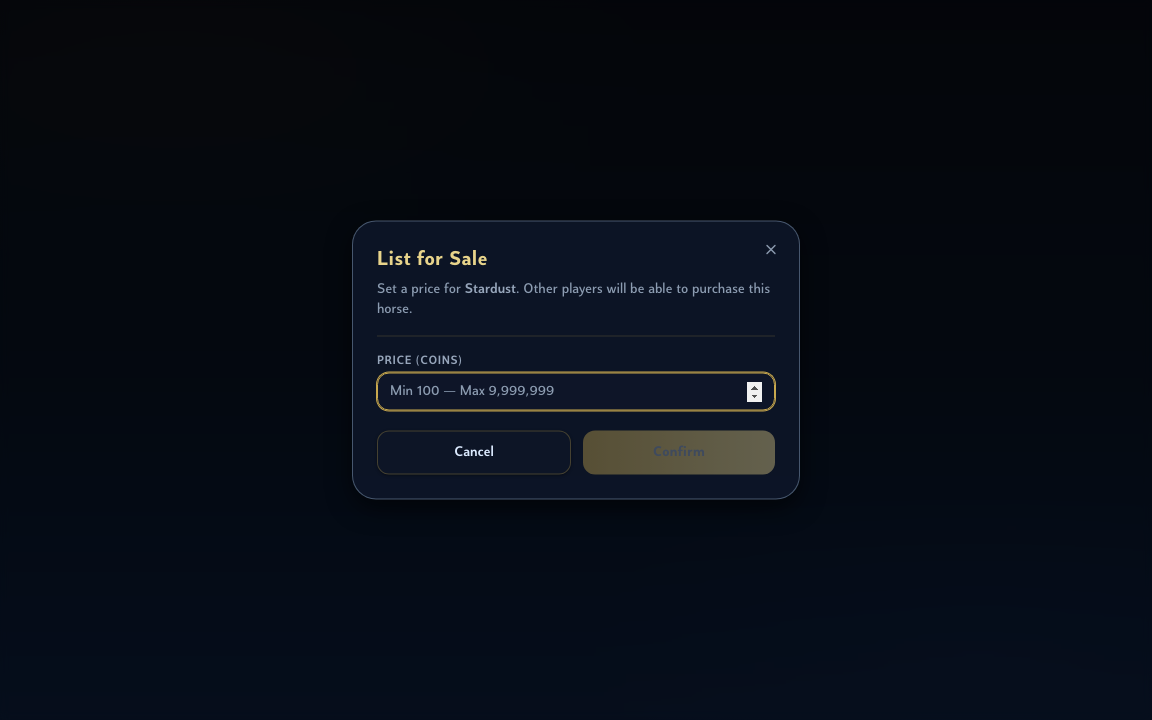
Refused actions show their reason at the button (Equoria-bvddn.40) › a refused listing names the price rule at the Confirm button, not the server text
Type "5000" into the number field. click: {"x": 576, "y": 392}
box: [377, 372, 775, 410]
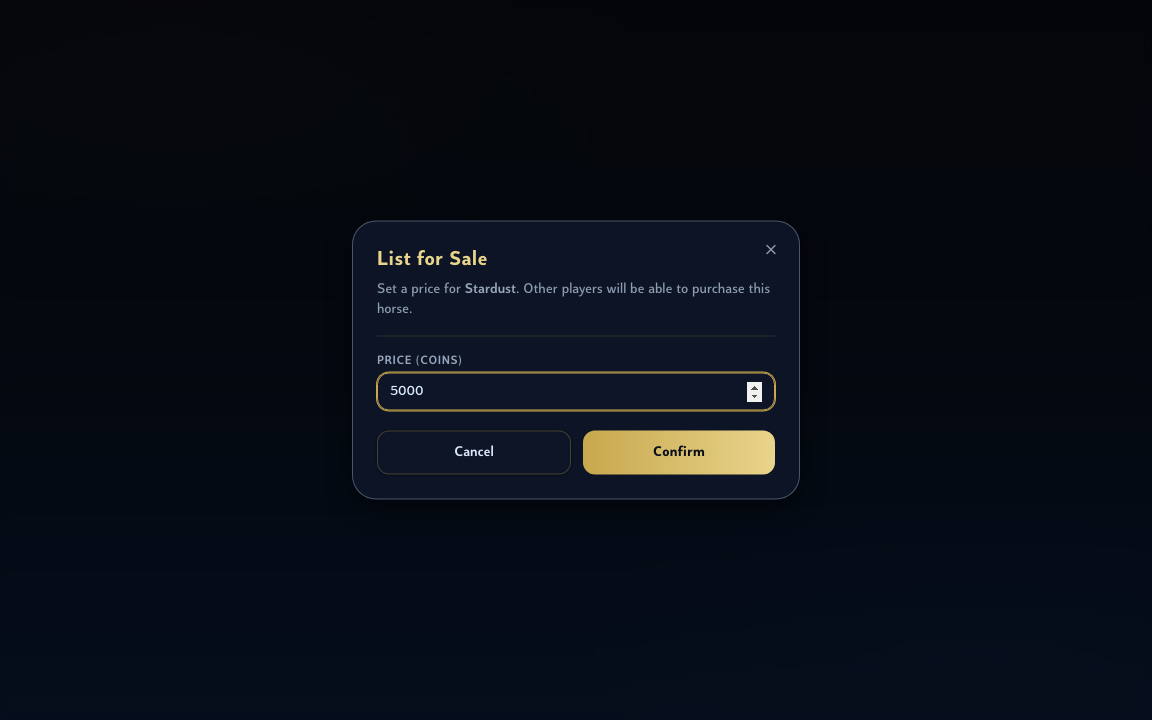
Click the button "Confirm". click: {"x": 679, "y": 452}
box: [583, 430, 775, 474]
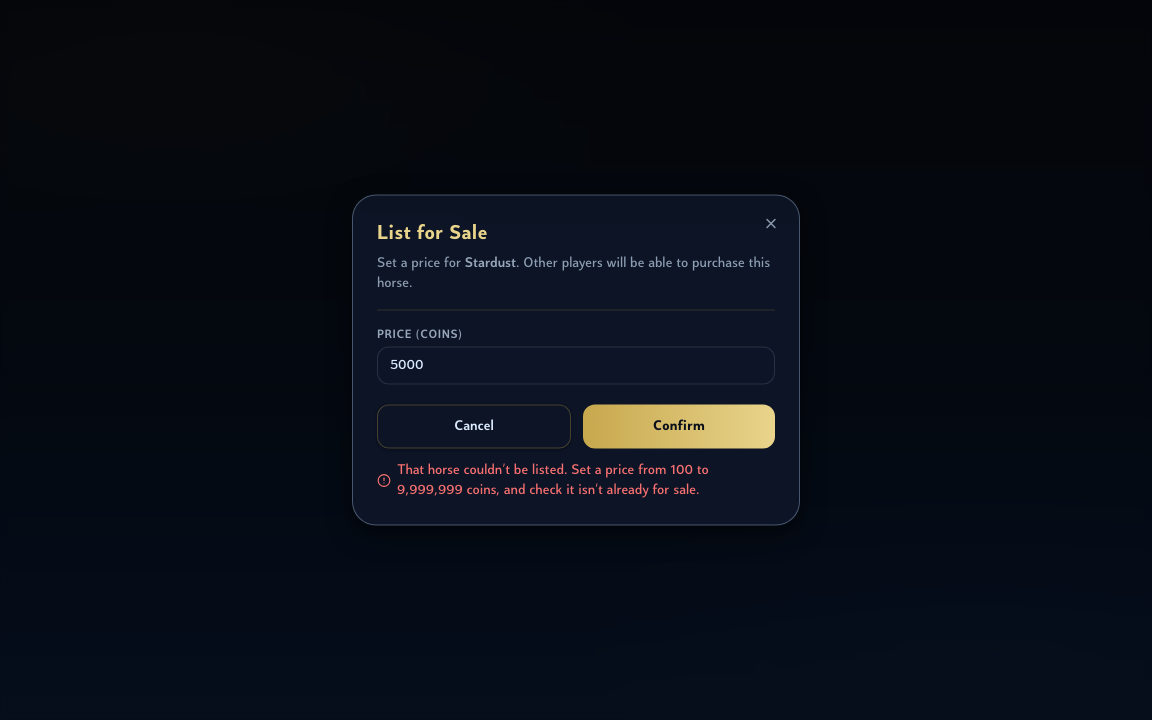
Expected: the message shows "That horse couldn't be listed. Set a price from 100 to 9,999,999 coins, and check it isn't already for sale.", [397, 462, 709, 498]
